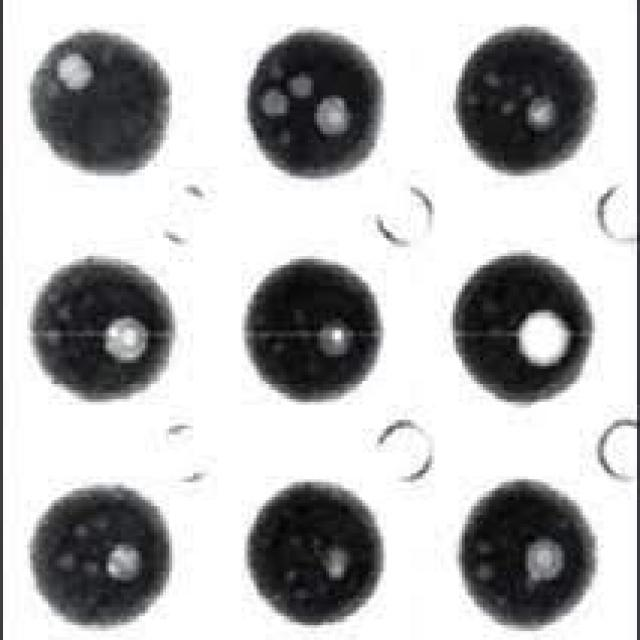component: (459, 256, 595, 400), (33, 259, 172, 399), (248, 259, 383, 400), (462, 482, 595, 625), (33, 33, 169, 171), (251, 33, 383, 174), (251, 485, 383, 624), (33, 488, 166, 625)
void: (511, 310, 572, 367), (523, 539, 562, 585), (309, 95, 349, 138), (106, 323, 148, 361), (57, 52, 94, 93), (315, 320, 349, 356), (523, 100, 558, 132), (107, 543, 136, 576), (260, 89, 286, 120), (326, 551, 347, 581), (44, 325, 66, 348), (294, 78, 313, 97), (476, 564, 495, 577), (60, 554, 71, 572), (71, 526, 80, 541)
